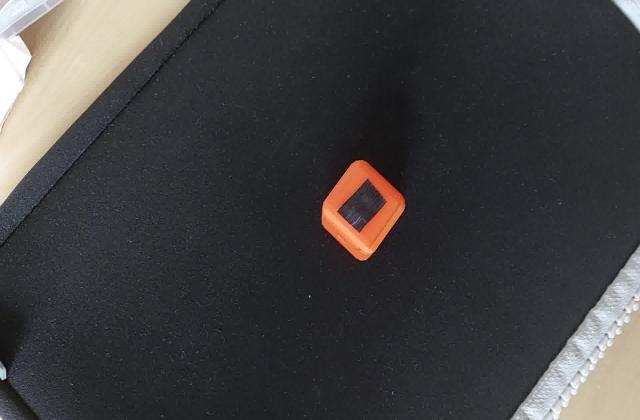black: (329, 180, 392, 234)
sticker: (317, 158, 408, 265)
